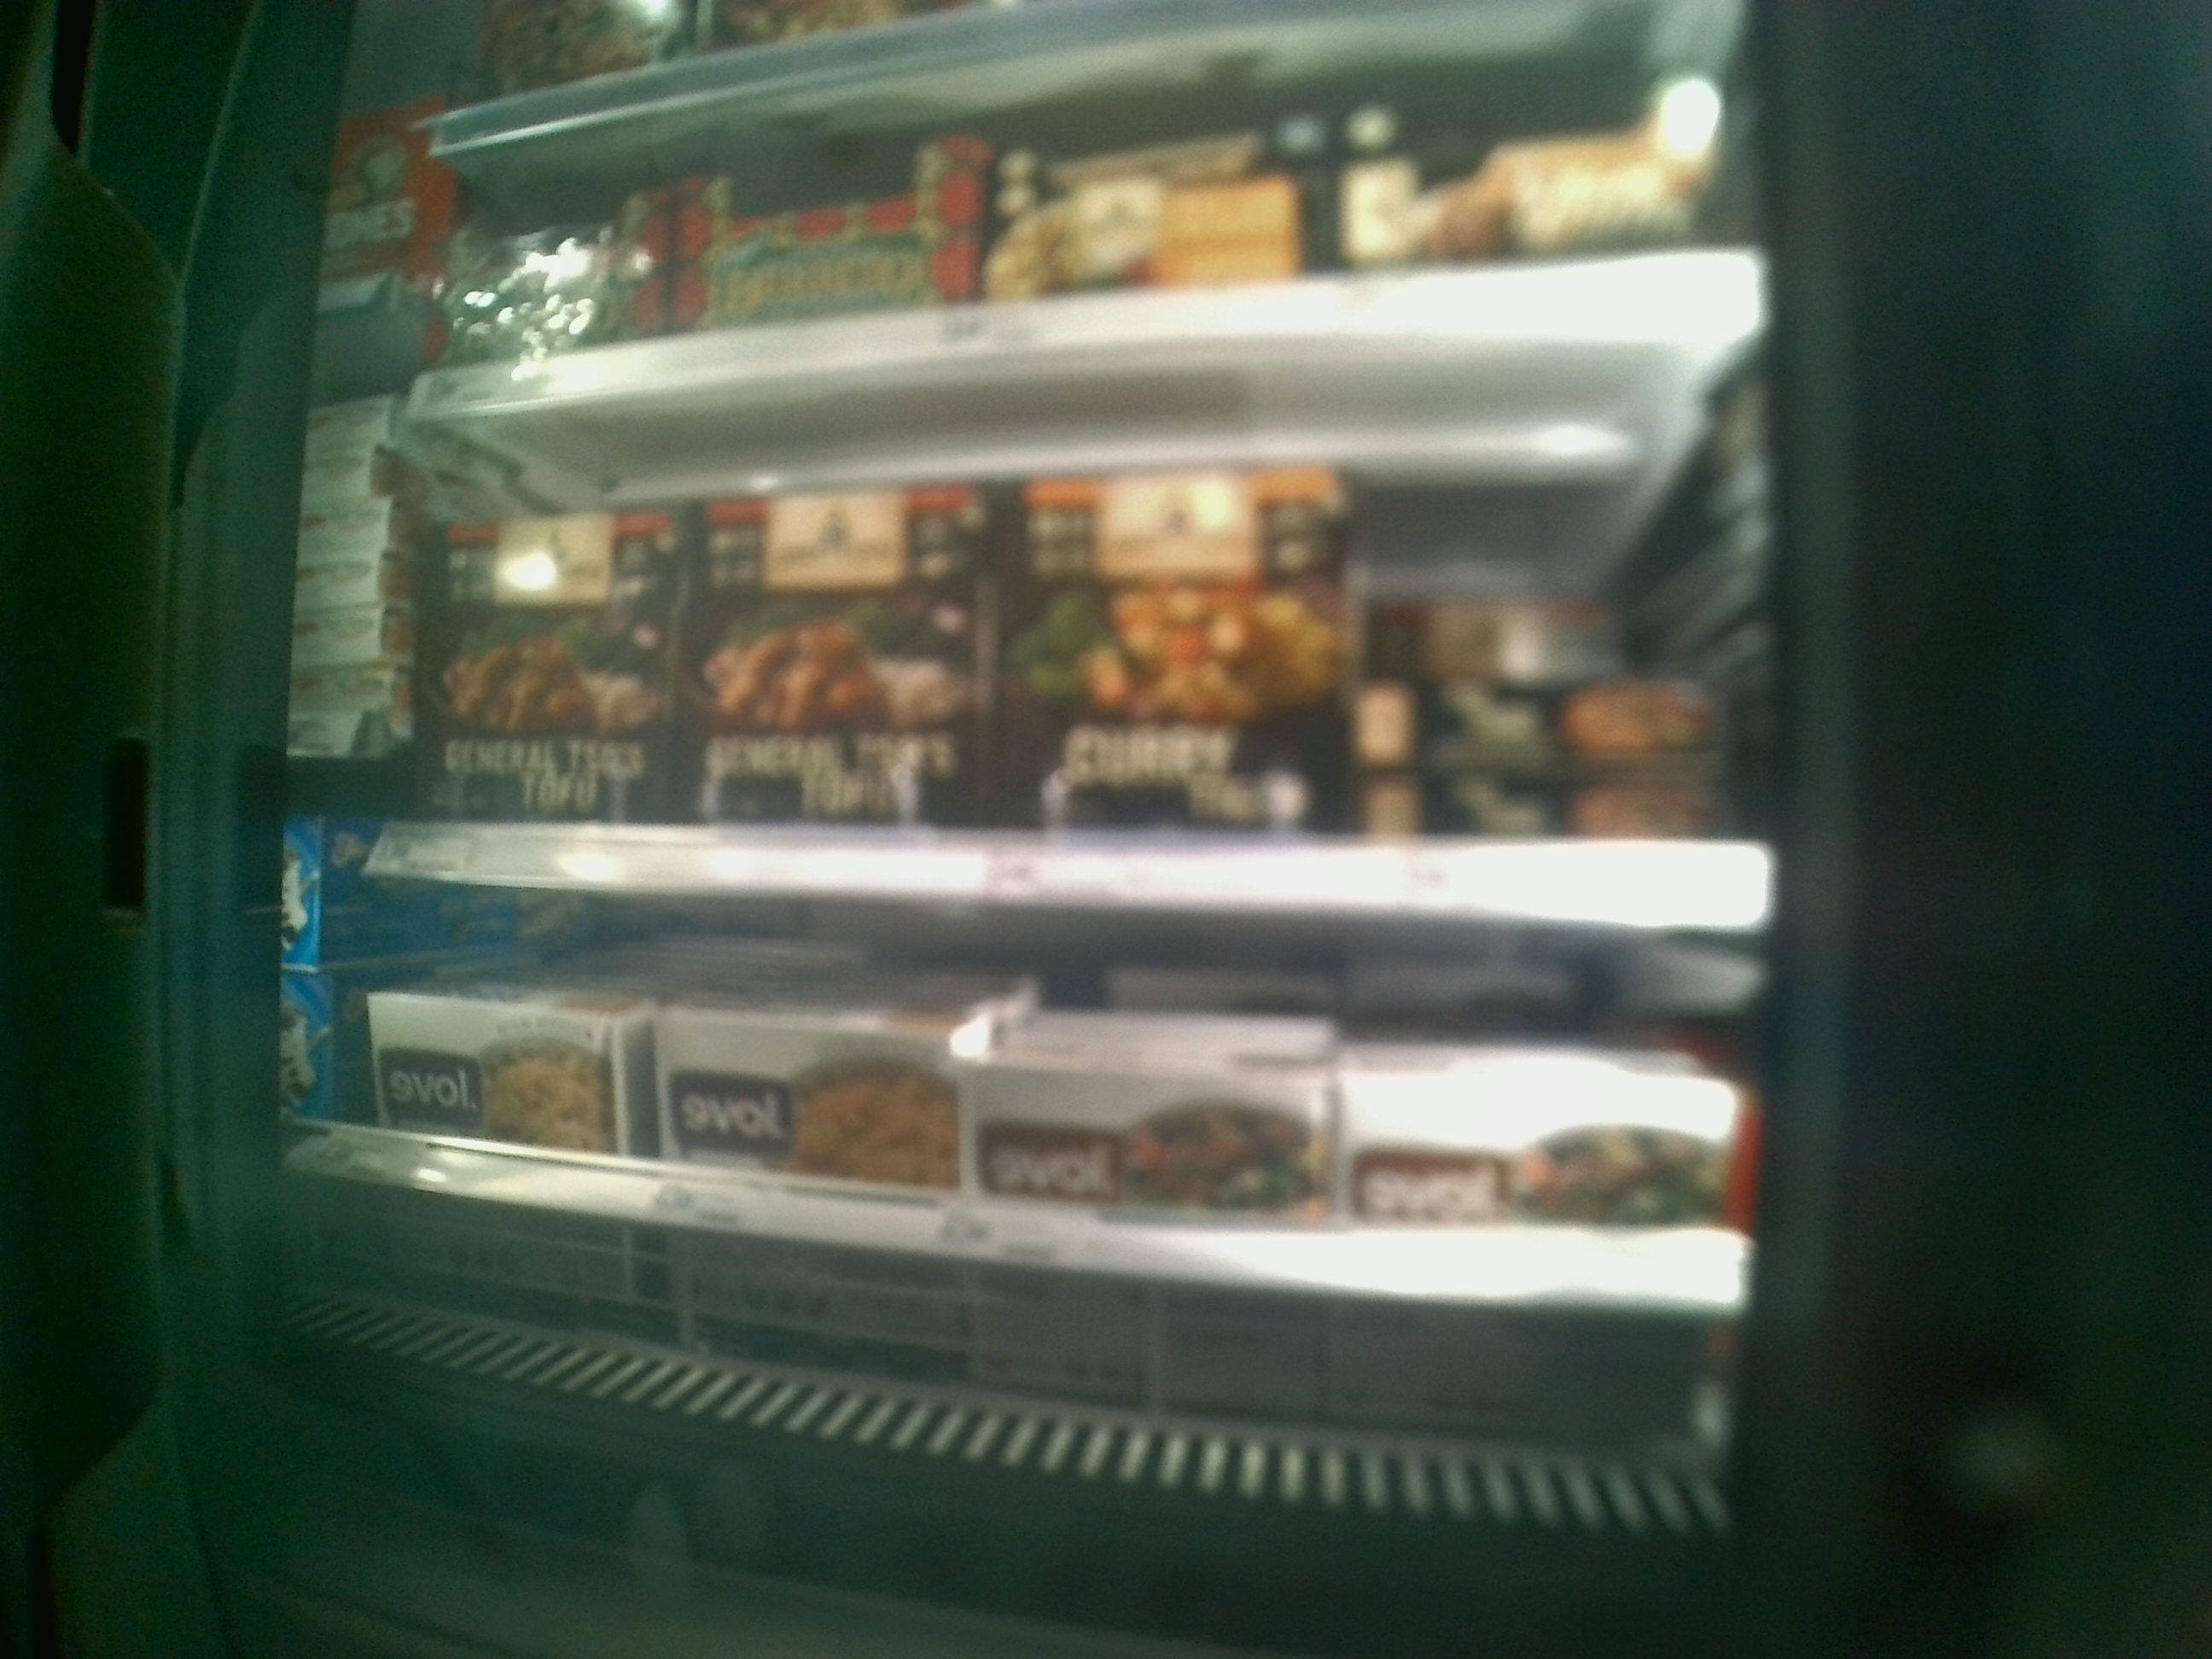frozen-food-shelf: (354, 441, 1794, 927), (298, 934, 1789, 1321)
